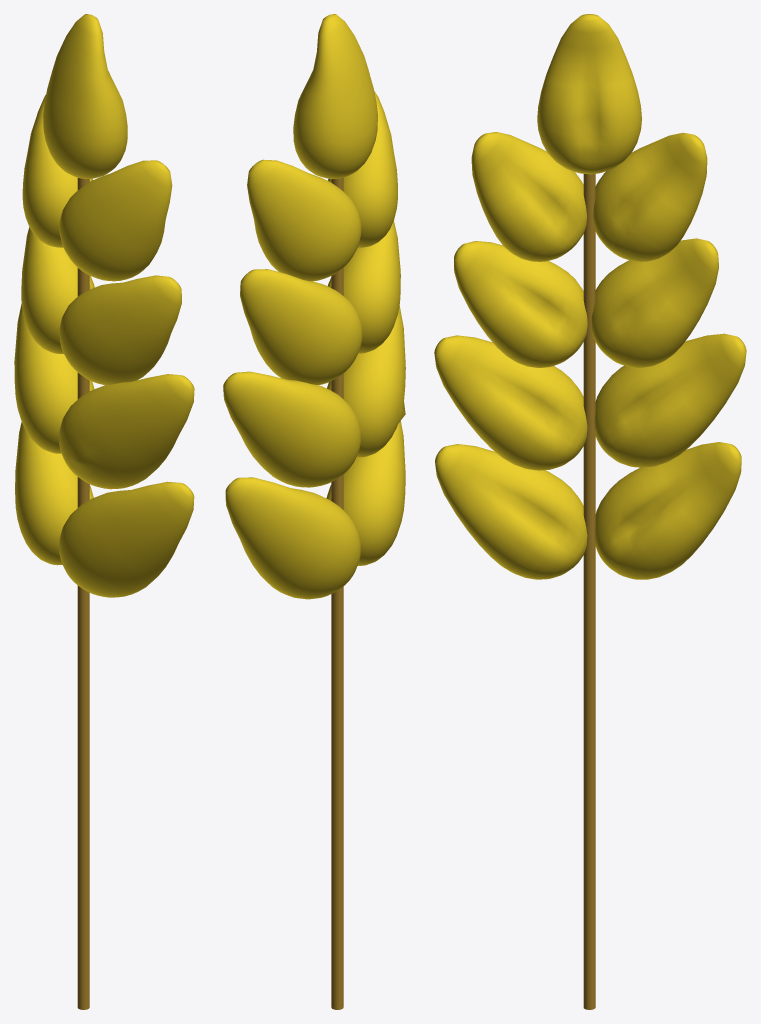
The model's file is wheat.fbx.
3 views of the same model, side by side, from view 1: azimuth 30°, elevation 25°; view 2: azimuth 150°, elevation 25°; view 3: azimuth 270°, elevation 25° (orthographic).
Visible parts, largest first — view 1: Sphere.008; view 2: Sphere.008; view 3: Sphere.008.
Boxes of the visible parts, bbox=[...] form: Sphere.008: bbox=[14, 14, 194, 1009]; Sphere.008: bbox=[223, 14, 405, 1009]; Sphere.008: bbox=[434, 14, 746, 1009].
Bounding box in the file's own units: 7.62 × 89.9 × 25.53.
